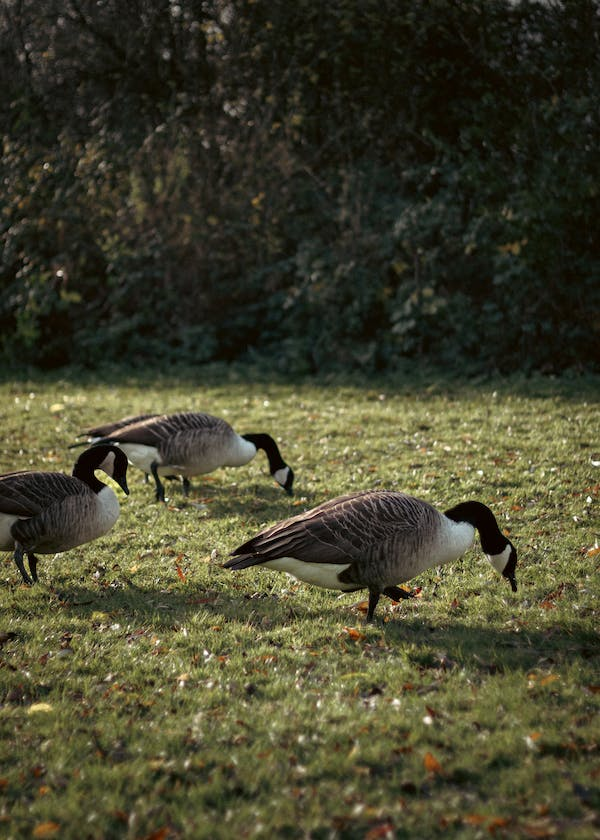Walking: (210, 469, 541, 655)
